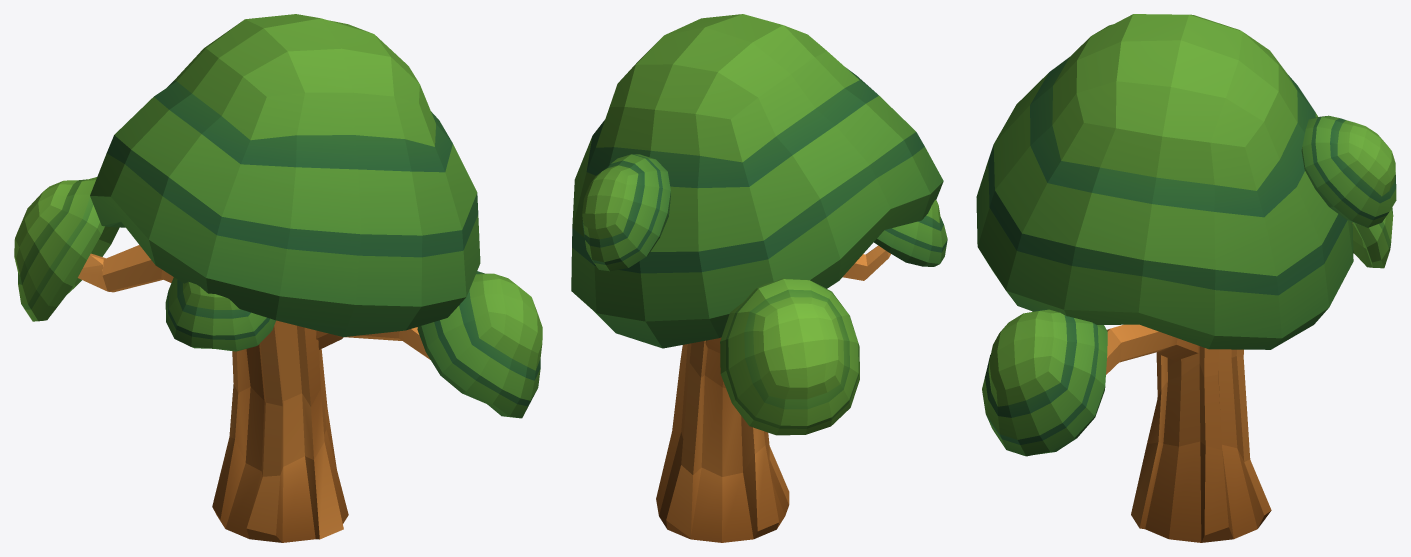
The model's file is Tree_Medium_A.fbx.
The picture shows the model from 3 angles, left to right: view 1: azimuth 30°, elevation 25°; view 2: azimuth 150°, elevation 25°; view 3: azimuth 270°, elevation 25°; orthographic projection. The views are drawn at different scales.
Parts seen in each view (by area): view 1: Tree_Medium_A; view 2: Tree_Medium_A; view 3: Tree_Medium_A.
Part boxes in pixels (<box>): Tree_Medium_A: <box>14,14,542,542</box>; Tree_Medium_A: <box>571,14,947,542</box>; Tree_Medium_A: <box>976,14,1396,542</box>.
Size of the model in its own units: 170 by 217 by 169.
